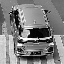motor: (17, 5, 39, 52)
